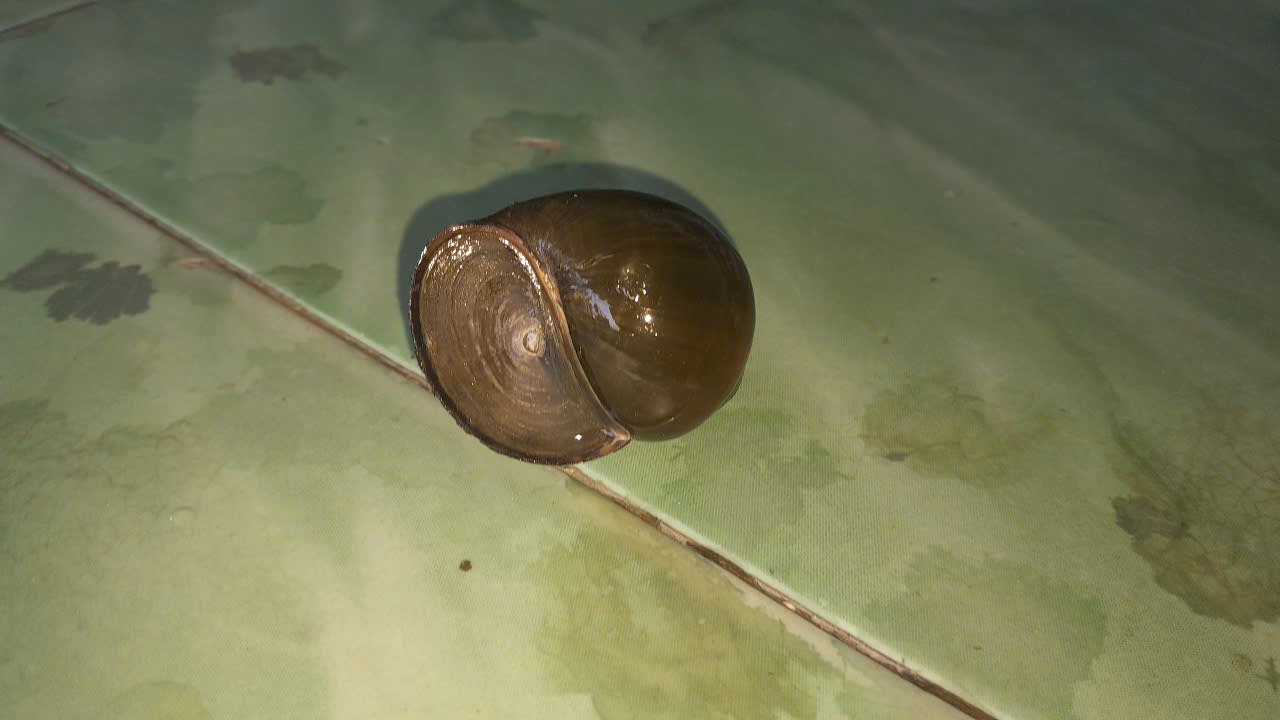oc_buou_vang: (408, 182, 789, 480)
